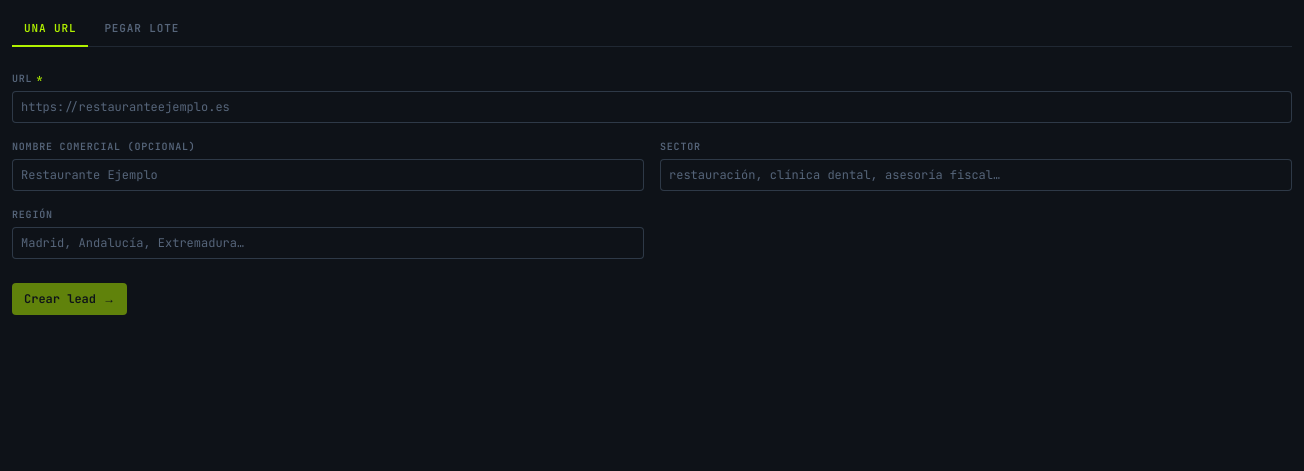
Scenario: LeadCreateForm tabs › vuelve a single tras click en 'Una URL'
The width and height of the screenshot is (1304, 471).
What coordinates should you click on to do the following:
click the tab "Pegar lote"
I would click on:
 (142, 29)
Its box is [92, 12, 191, 46].
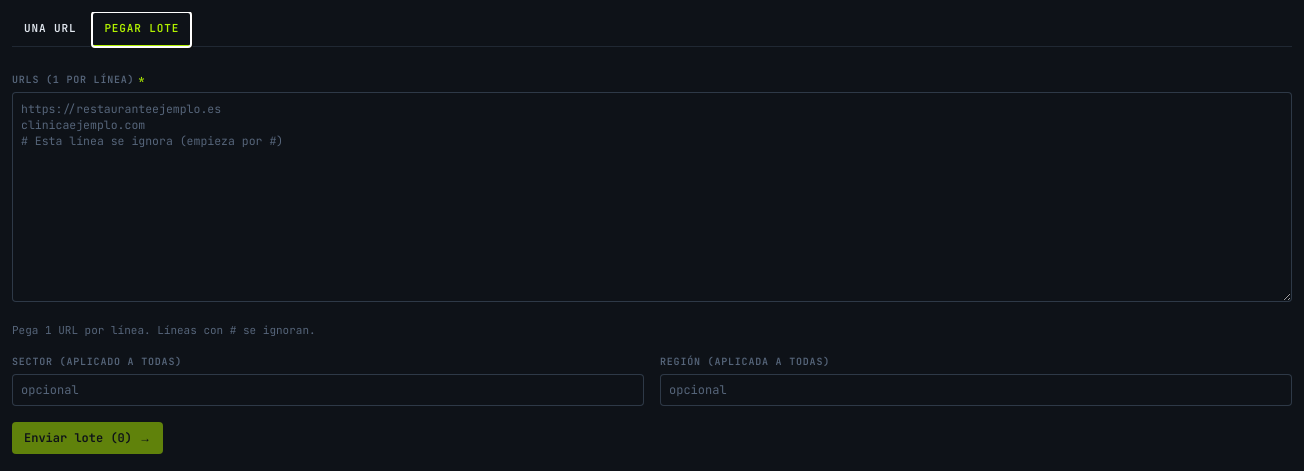
What coordinates should you click on to do the following:
click the tab "Una URL"
I would click on:
 (50, 29)
Its box is [12, 12, 88, 46].
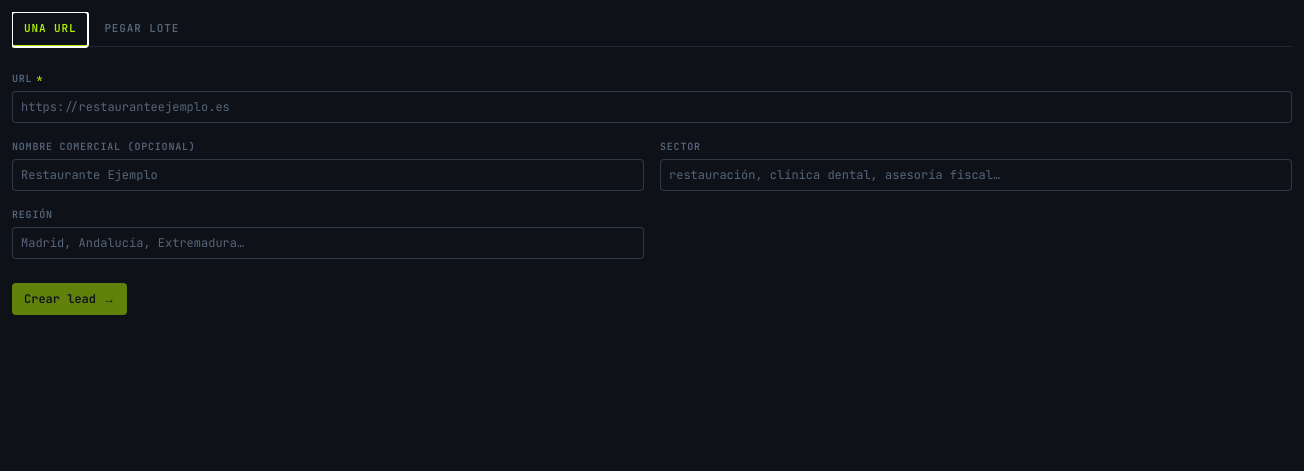
Result: the field labelled "URL*" is shown at [12, 90, 1292, 122]
